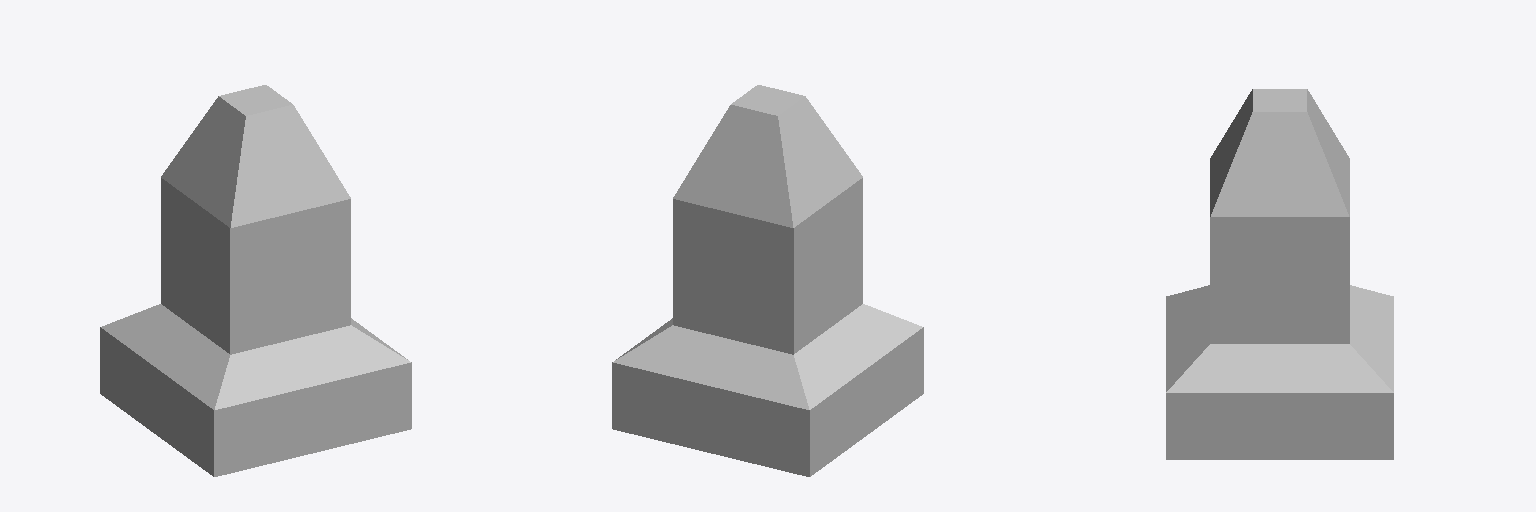
The model's file is lander.obj.
The picture shows the model from 3 angles: view 1: azimuth 30°, elevation 25°; view 2: azimuth 150°, elevation 25°; view 3: azimuth 270°, elevation 25°; orthographic projection.
Visible parts, largest first — view 1: Cube; view 2: Cube; view 3: Cube.
Boxes of the visible parts, <box> form: Cube: <box>100,85,411,476</box>; Cube: <box>612,85,923,476</box>; Cube: <box>1166,89,1393,459</box>.
Bounding box in the file's own units: 3.26 × 4.92 × 3.26.